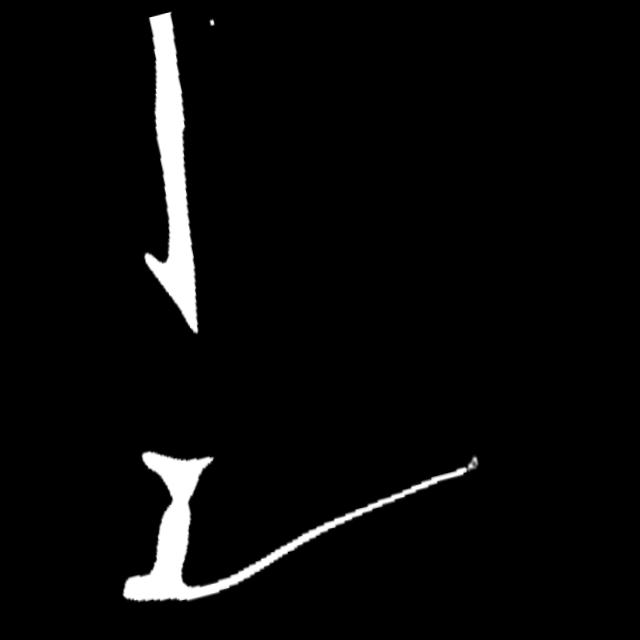stp: (457, 460, 481, 486)
